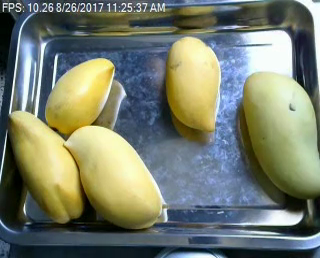Mango: (65, 125, 166, 230), (243, 71, 320, 197), (8, 110, 85, 224), (42, 58, 117, 130), (167, 36, 221, 133)
